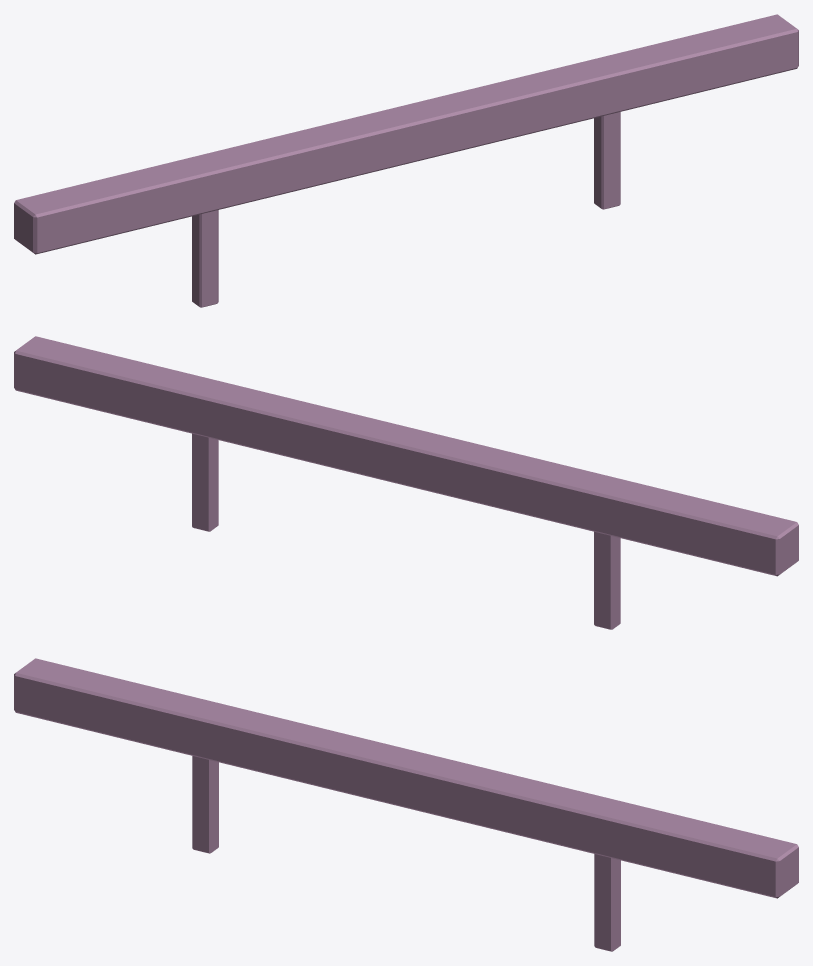
The model's file is mesh_handRailMod.fbx.
The picture shows the model from 3 angles, top to bottom: view 1: azimuth 30°, elevation 25°; view 2: azimuth 150°, elevation 25°; view 3: azimuth 330°, elevation 25°; orthographic projection.
Parts seen in each view (by area): view 1: mesh_handRailMod_v03; view 2: mesh_handRailMod_v03; view 3: mesh_handRailMod_v03.
Part boxes in pixels (<box>): mesh_handRailMod_v03: <box>14,14,798,307</box>; mesh_handRailMod_v03: <box>14,336,798,629</box>; mesh_handRailMod_v03: <box>14,658,798,951</box>.
Size of the model in its own units: 20 by 3.48 by 1.
